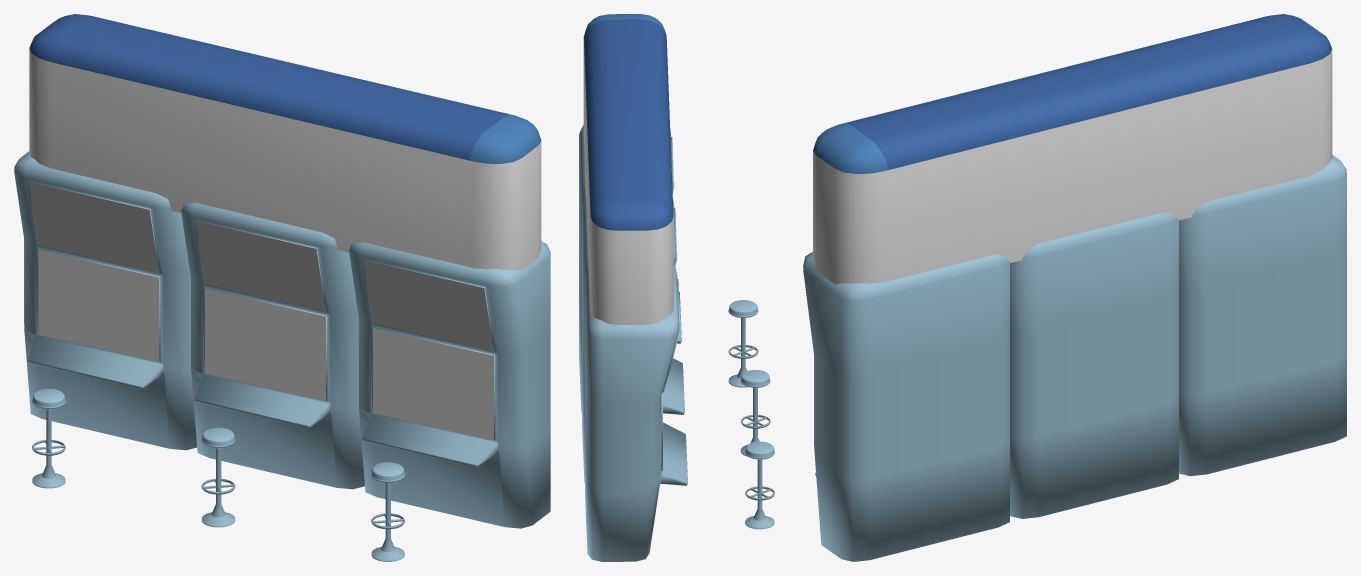
Rendered from Nexus_AutomatenPrefab.fbx.
3 renders of one model, left to right at view 1: azimuth 30°, elevation 25°; view 2: azimuth 150°, elevation 25°; view 3: azimuth 270°, elevation 25°, orthographic. The views are drawn at different scales.
Visible parts, largest first — view 1: Cube.004, Cube.056, Cube.058, Cube.057, GEO_Bar_Chair_04.056, GEO_Bar_Chair_04.057, GEO_Bar_Chair_04.055; view 2: Cube.004, Cube.058, Cube.057, GEO_Bar_Chair_04.057, Cube.056, GEO_Bar_Chair_04.055, GEO_Bar_Chair_04.056; view 3: Cube.004, Cube.056, Cube.057, Cube.058.
Part boxes in pixels (x1,y1,x2,y2): Cube.004: (29, 14, 541, 270); Cube.056: (349, 241, 550, 528); Cube.058: (14, 151, 196, 450); Cube.057: (181, 202, 364, 489); GEO_Bar_Chair_04.056: (201, 427, 235, 527); GEO_Bar_Chair_04.057: (32, 388, 65, 488); GEO_Bar_Chair_04.055: (371, 462, 404, 561); Cube.004: (583, 14, 673, 324); Cube.058: (585, 265, 687, 561); Cube.057: (582, 197, 684, 482); GEO_Bar_Chair_04.057: (745, 441, 774, 529); Cube.056: (579, 125, 681, 411); GEO_Bar_Chair_04.055: (728, 300, 758, 387); GEO_Bar_Chair_04.056: (740, 370, 770, 456); Cube.004: (813, 14, 1332, 284); Cube.056: (803, 252, 1009, 561); Cube.057: (1010, 212, 1178, 518); Cube.058: (1179, 155, 1346, 476).
Size of the model in its own units: 377 by 386 by 472.
6 materials, 2 textured.
